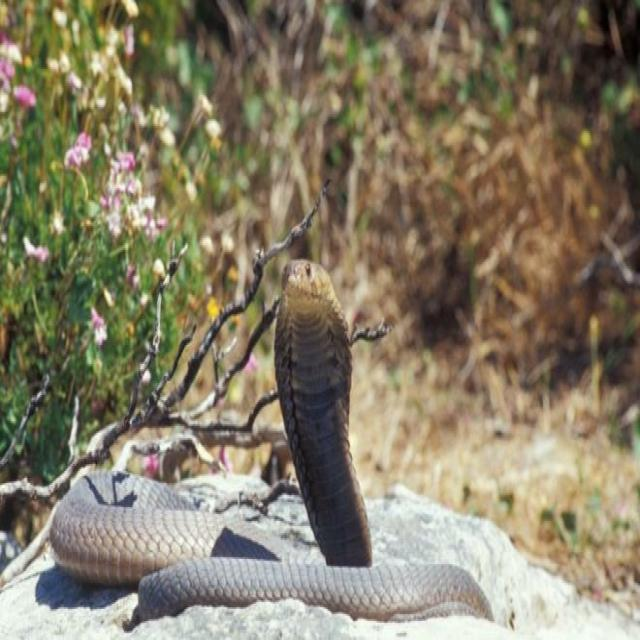Snake: (48, 256, 494, 626)
